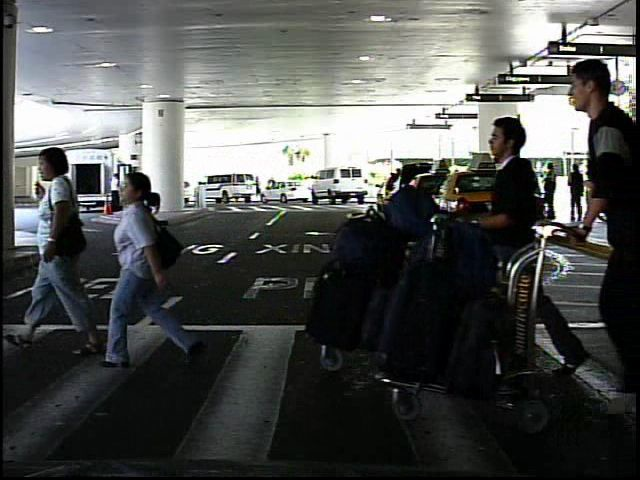person: (452, 103, 559, 394), (33, 137, 119, 358), (99, 158, 178, 382), (105, 172, 123, 222), (585, 173, 598, 216), (262, 178, 273, 204)
